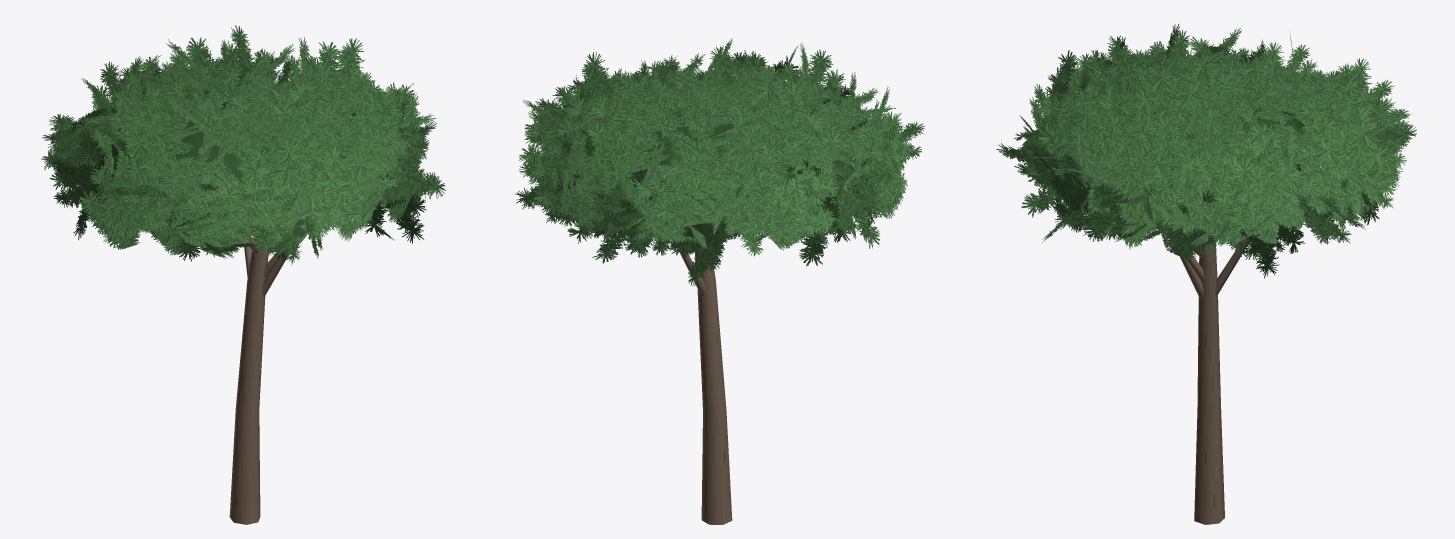
Rendered from PINUS_1.glb.
3 renders of one model, left to right at view 1: azimuth 30°, elevation 25°; view 2: azimuth 150°, elevation 25°; view 3: azimuth 270°, elevation 25°, orthographic. The views are drawn at different scales.
Parts seen in each view (by area): view 1: Arv_PINUS_lod1; view 2: Arv_PINUS_lod1; view 3: Arv_PINUS_lod1.
Part boxes in pixels (<box>): Arv_PINUS_lod1: <box>41,25,445,524</box>; Arv_PINUS_lod1: <box>515,38,924,524</box>; Arv_PINUS_lod1: <box>996,23,1416,524</box>.
Size of the model in its own units: 10.25 by 11.11 by 10.02.
3 materials, 2 textured.
